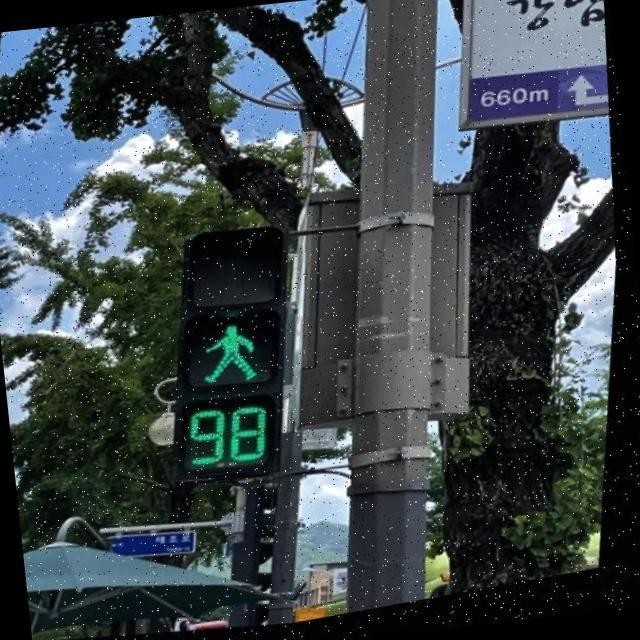greenlight: (179, 233, 295, 393)
